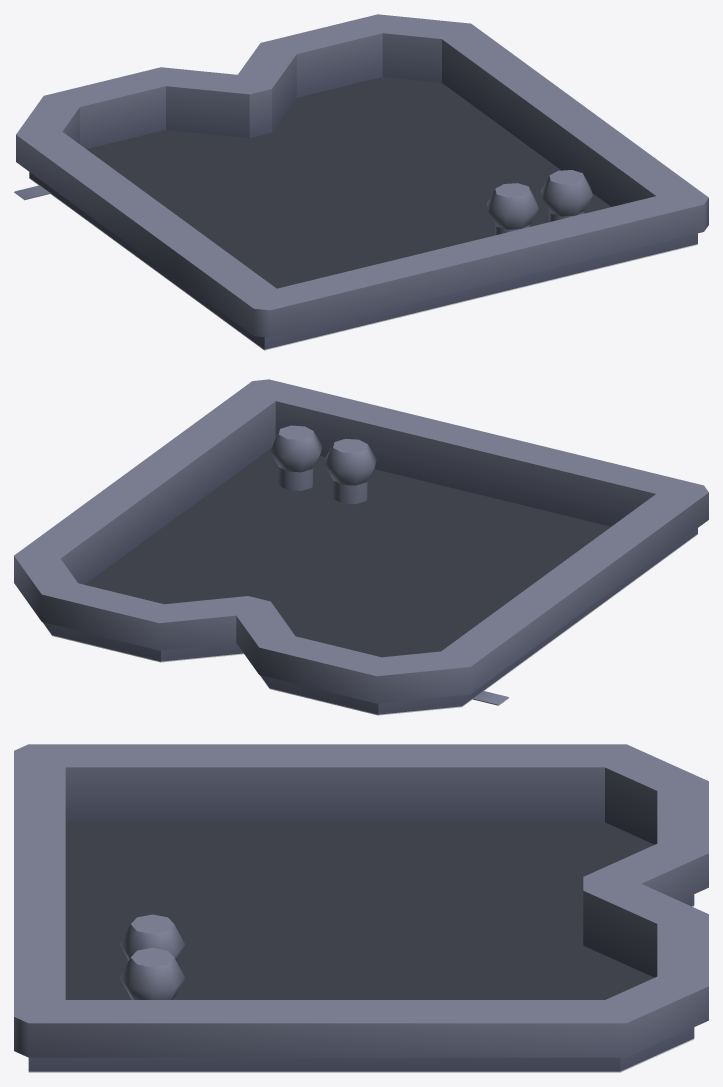
The model's file is commercial-a.glb.
3 renders of one model, top to bottom at view 1: azimuth 30°, elevation 25°; view 2: azimuth 150°, elevation 25°; view 3: azimuth 270°, elevation 25°, orthographic. The views are drawn at different scales.
Parts seen in each view (by area): view 1: building-a; view 2: building-a; view 3: building-a.
Boxes of the visible parts, <box> form: building-a: <box>14,14,708,350</box>; building-a: <box>14,379,708,715</box>; building-a: <box>14,744,708,1072</box>.
Bounding box in the file's own units: 10.8 × 1.13 × 11.
Materials: 1 (1 with a texture image).
